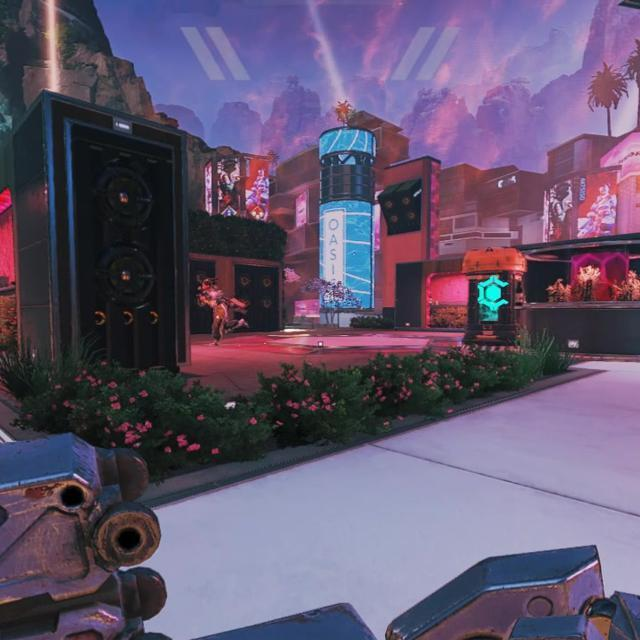avatar: (198, 280, 231, 346)
